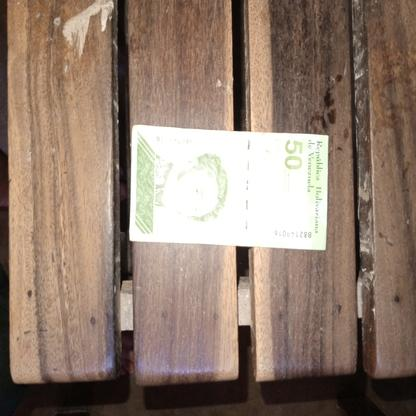fifty-front-vef: (128, 124, 328, 250)
